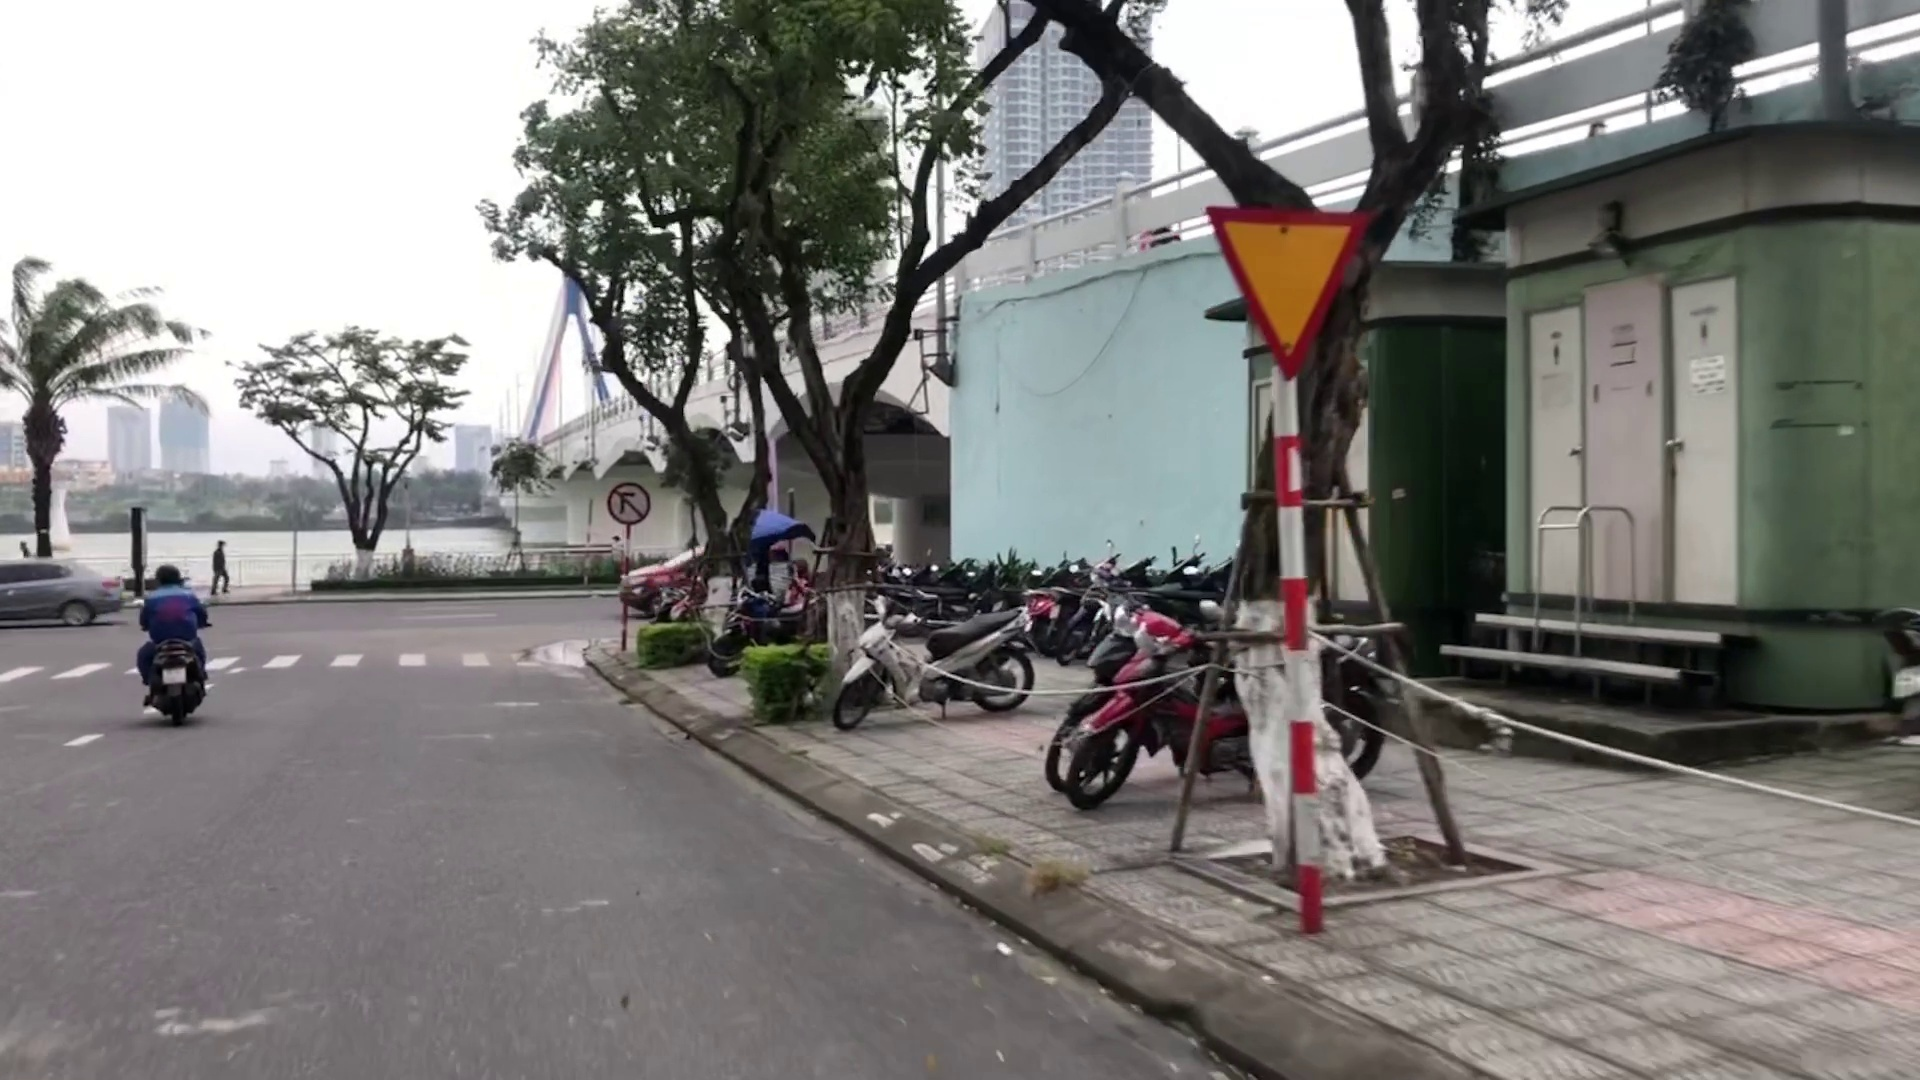Bien khac: (1200, 200, 1364, 384), (607, 477, 651, 525)
